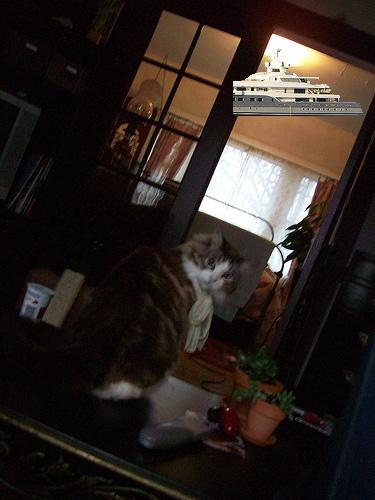tampered: (234, 49, 363, 116)
